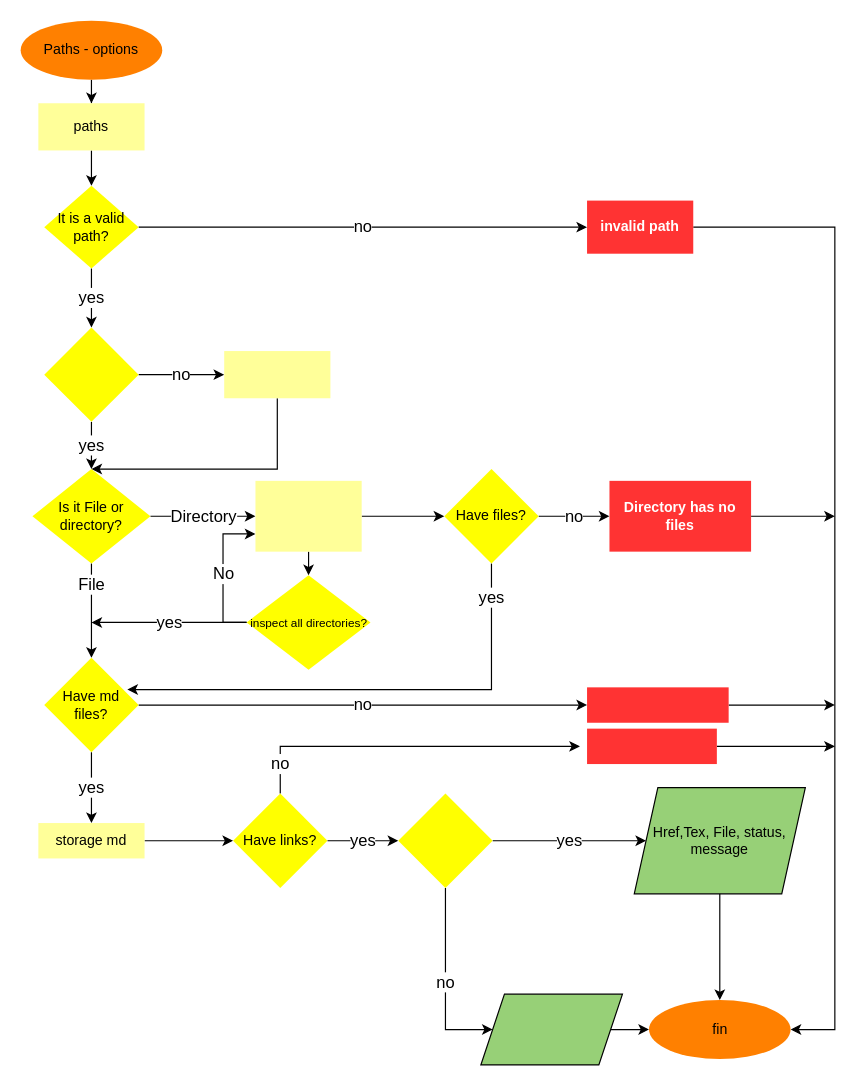
The diagram is 865 pixels wide and 1086 high, and some of its shapes have lost their labels. Each missing label, with the centre of its shape:
"Doesn't contain inks" belongs at (x=651, y=745).
"href, text, file" belongs at (x=551, y=1029).
"Inspect directory" belongs at (x=308, y=515).
"It is absolute?" belongs at (x=91, y=374).
"make it absolute" belongs at (x=277, y=374).
"No md files" belongs at (x=657, y=704).
"Validate: true?" belongs at (x=445, y=840).
